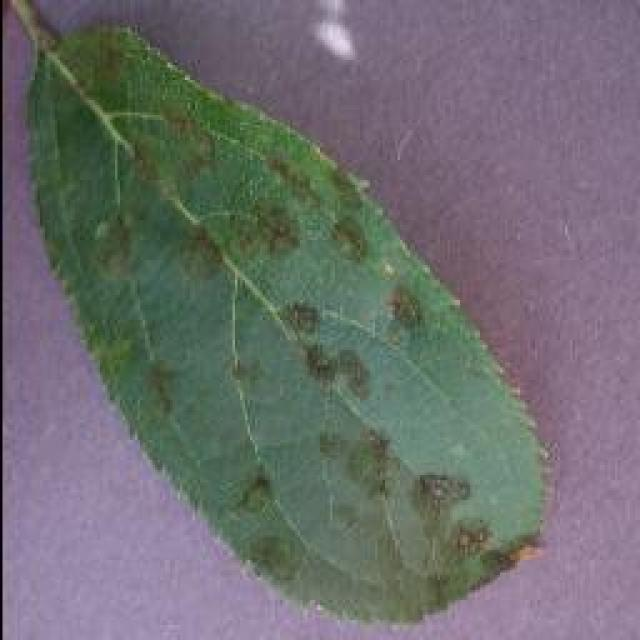apple scab disease: (12, 5, 558, 625)
